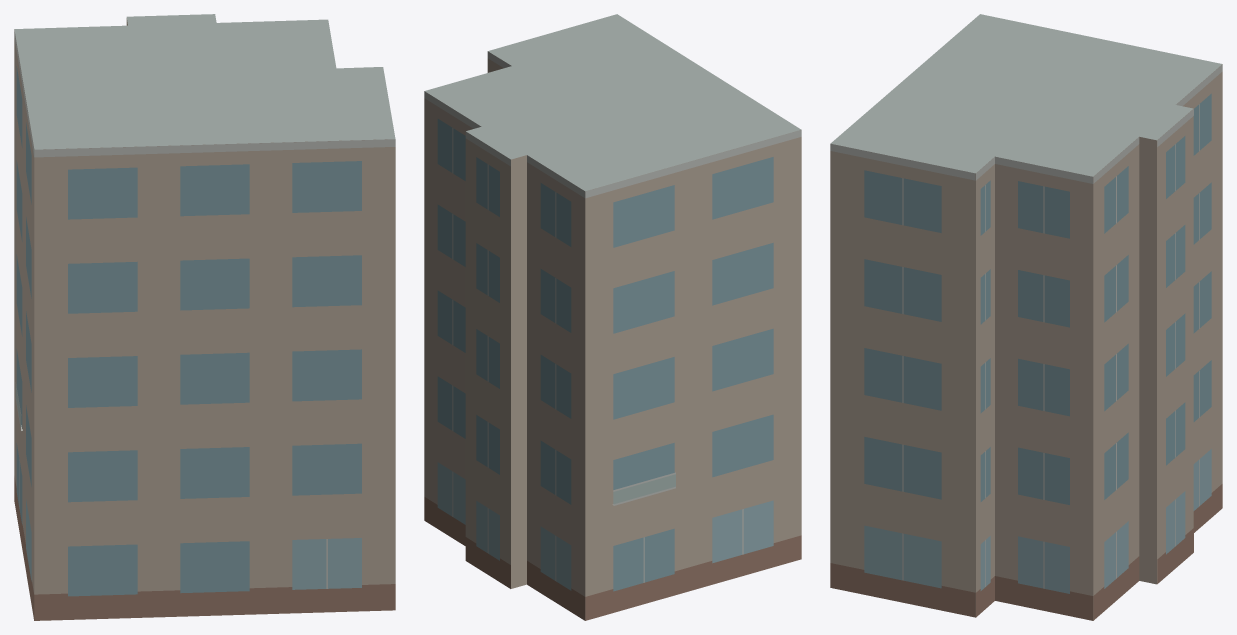
File: survey-upis-32754888.glb
3 views of the same model, side by side, from view 1: azimuth 30°, elevation 25°; view 2: azimuth 150°, elevation 25°; view 3: azimuth 270°, elevation 25° (orthographic). The views are drawn at different scales.
Visible parts, largest first — view 1: survey-upis-32754888.tmp; view 2: survey-upis-32754888.tmp; view 3: survey-upis-32754888.tmp.
Part boxes in pixels (box(x1,y1,x2,y2)): survey-upis-32754888.tmp: box(14, 14, 395, 620); survey-upis-32754888.tmp: box(424, 14, 801, 620); survey-upis-32754888.tmp: box(830, 14, 1222, 620).
Size of the model in its own units: 11.72 by 14.9 by 11.94.
